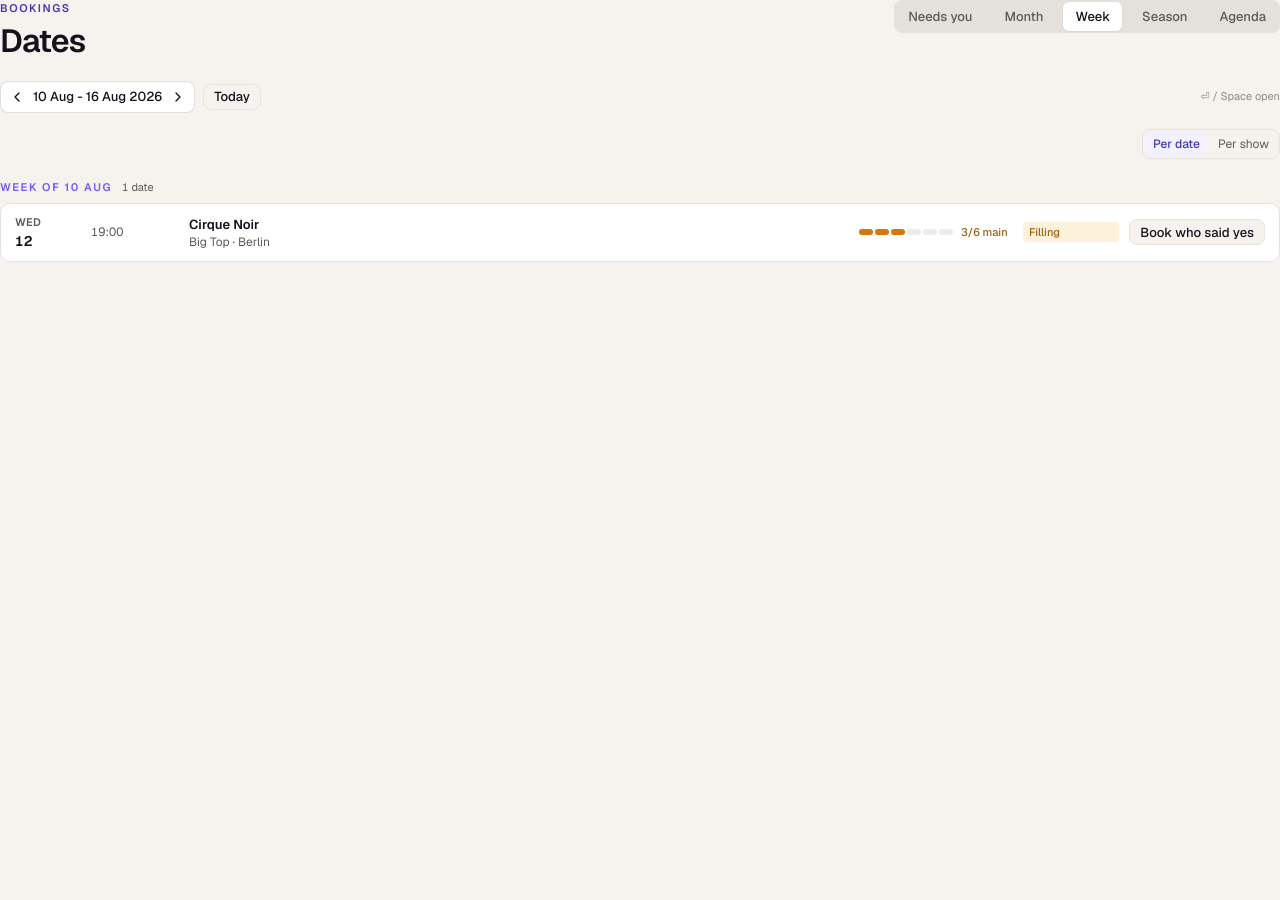
Test: CalendarSurface — mobile shell (useIsMobile true) › producer Week collapses to the Agenda day-list filtered to the week window, and a row tap opens the day sheet
This screenshot has width=1280, height=900.
Click the button with test id "agenda-row-pd-in-week": (107, 232) [1, 204, 1279, 260]
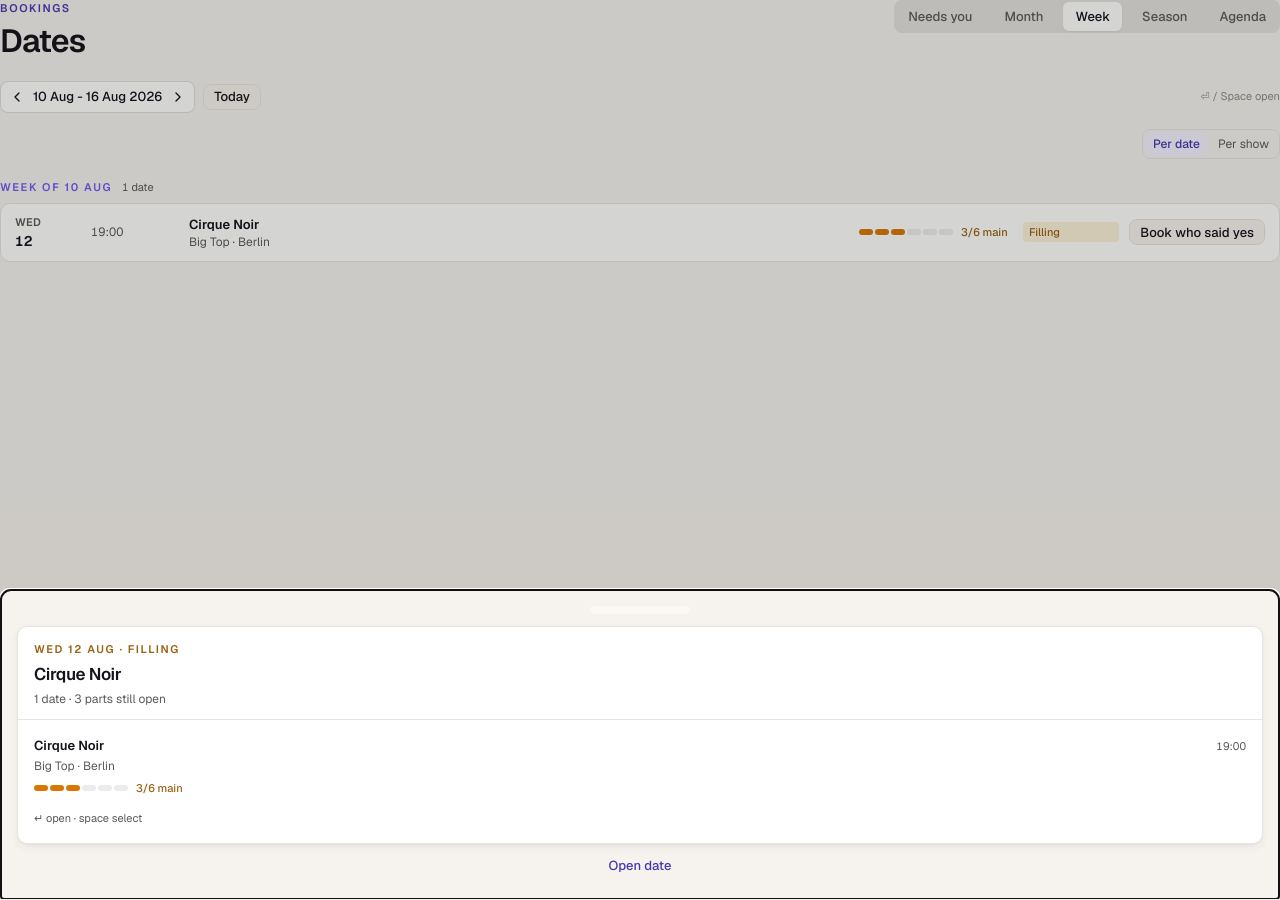
Check: the dialog with test id "calendar-day-sheet" is shown, box [0, 589, 1279, 899]
Check: the dialog with test id "calendar-day-sheet" shows "Cirque Noir", box [34, 662, 121, 684]
